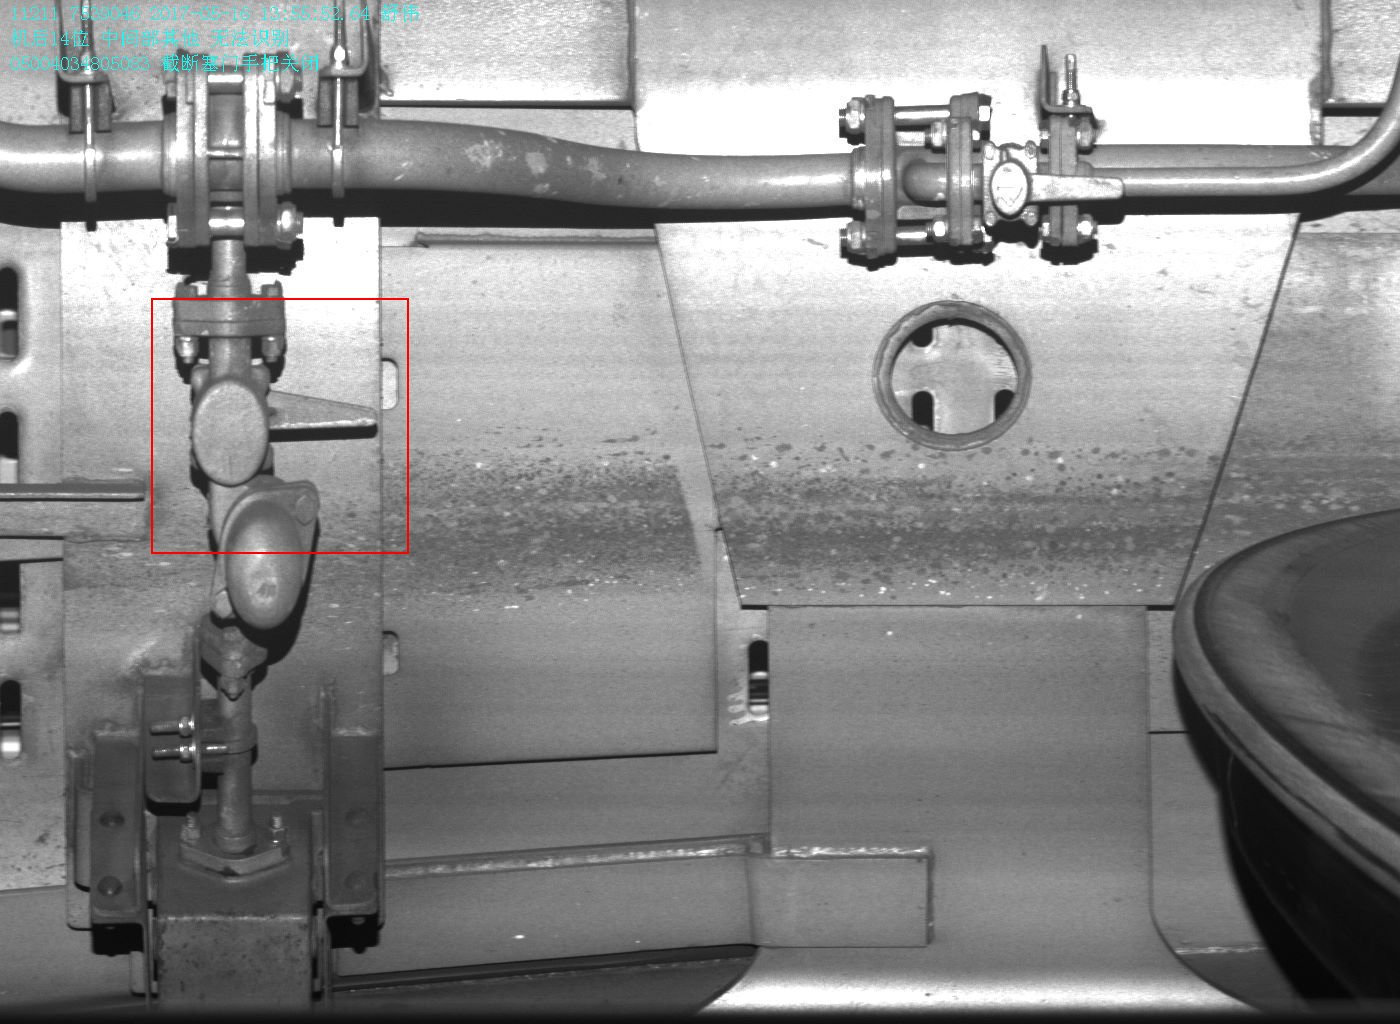truncated plug door handle: (188, 363, 379, 489)
